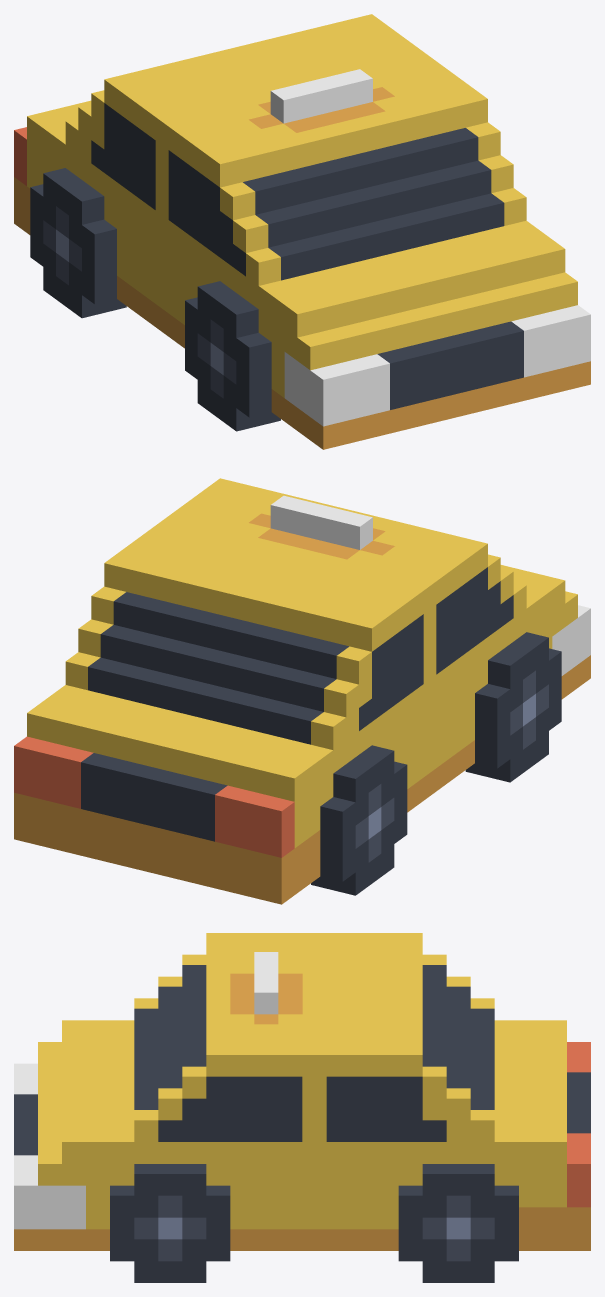
The model's file is taxi-3d.glb.
3 views of the same model, one above another, from view 1: azimuth 30°, elevation 25°; view 2: azimuth 150°, elevation 25°; view 3: azimuth 270°, elevation 25° (orthographic). The views are drawn at different scales.
Bounding box in the file's own units: 1.4 × 1.1 × 2.4.
1 material, 1 textured.
